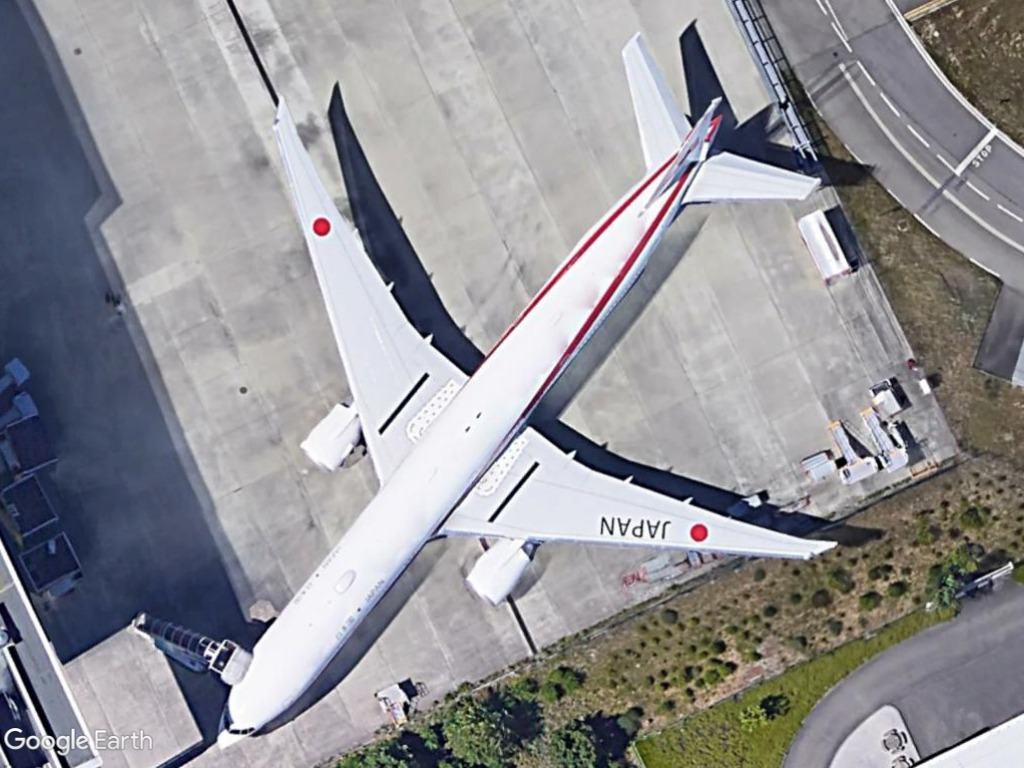airliner: (212, 31, 838, 754)
stairtruck: (857, 406, 913, 473), (826, 420, 875, 484)
